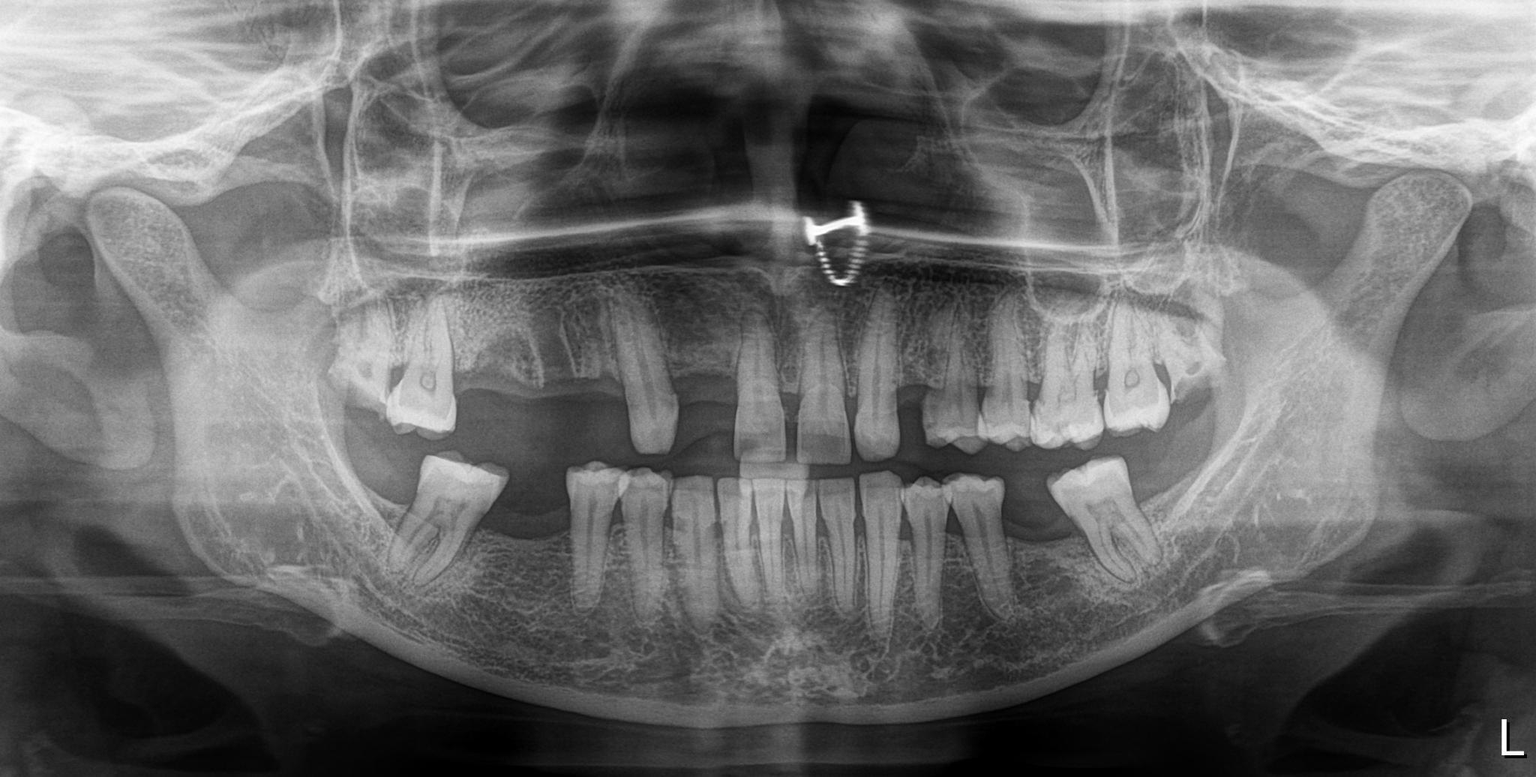Dental Caries: (1162, 358, 1222, 406)
Missing Tooth: (458, 313, 536, 448), (540, 313, 616, 451), (506, 486, 575, 610), (1146, 452, 1219, 557), (673, 319, 728, 451), (1001, 486, 1063, 595), (353, 441, 410, 551)
